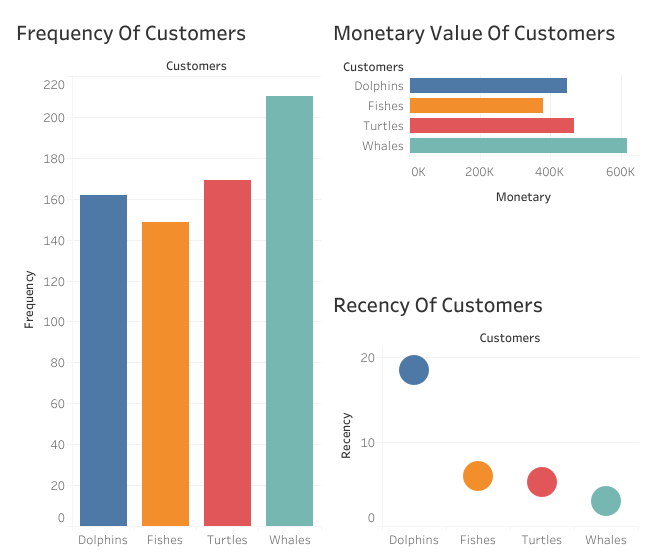

What the dashboard file says about the page in this screenshot:
{"tool":"tableau","page":{"name":"Dashboard 1","canvas":[650,860],"ordinal":0},"visuals":[{"type":"worksheet","title":"Sheet 1","mark":"Automatic","rows":["frequency"],"cols":["Customers"],"box":[8,11.8,317,836.5]},{"type":"worksheet","title":"Sheet 2","mark":"Automatic","rows":["Customers"],"cols":["monetary"],"box":[325,11.8,317,418.2]},{"type":"worksheet","title":"Sheet 3","mark":"Circle","rows":["recency"],"cols":["Customers"],"box":[325,430,317,418.2]}]}

Visuals, with their boxes on the page's 650x860 design canvas (x1, y1, x2, y2). These are canvas units, not pixel positions in the 649x559 screenshot, which may show the page scaled, cropped or inside an application window:
"Sheet 1" worksheet: left=8, top=12, right=325, bottom=848
"Sheet 2" worksheet: left=325, top=12, right=642, bottom=430
"Sheet 3" worksheet (Circle marks): left=325, top=430, right=642, bottom=848
